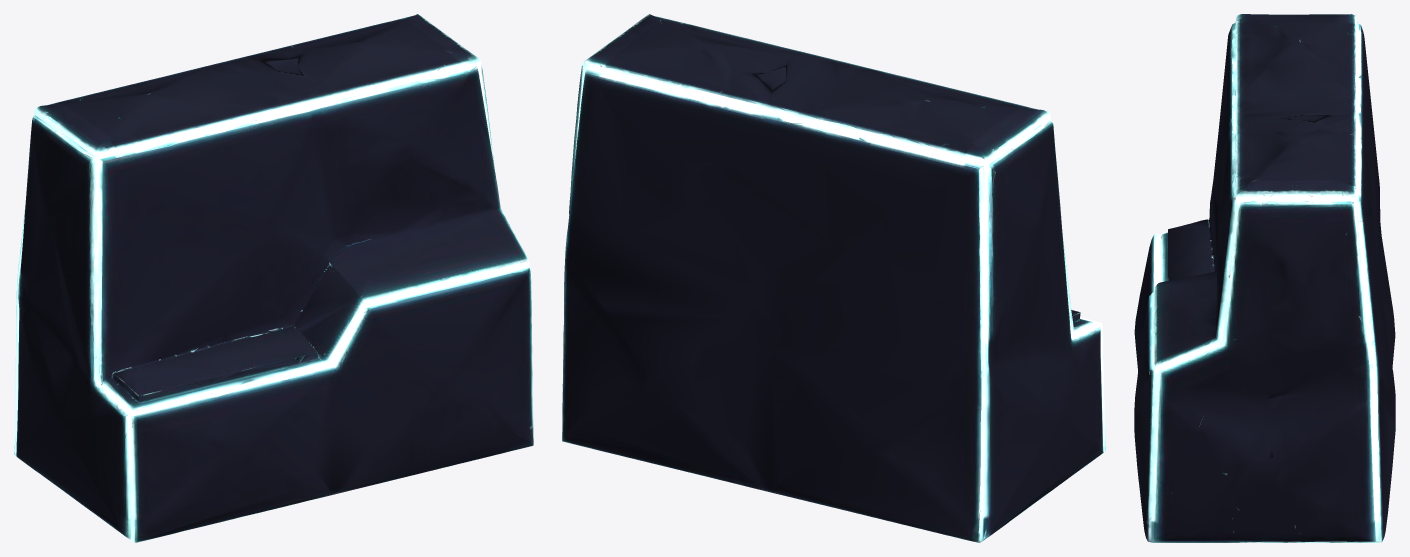
Rendered from cover_block.glb.
The picture shows the model from 3 angles, left to right: view 1: azimuth 30°, elevation 25°; view 2: azimuth 150°, elevation 25°; view 3: azimuth 270°, elevation 25°; orthographic projection. The views are drawn at different scales.
Parts seen in each view (by area): view 1: Mesh_0; view 2: Mesh_0; view 3: Mesh_0.
Part boxes in pixels (x1,y1,x2,y2): Mesh_0: (14,14,533,542); Mesh_0: (562,14,1105,542); Mesh_0: (1134,14,1395,542).
Size of the model in its own units: 1.91 by 1.61 by 1.05.
Materials: 1 (1 with a texture image).
